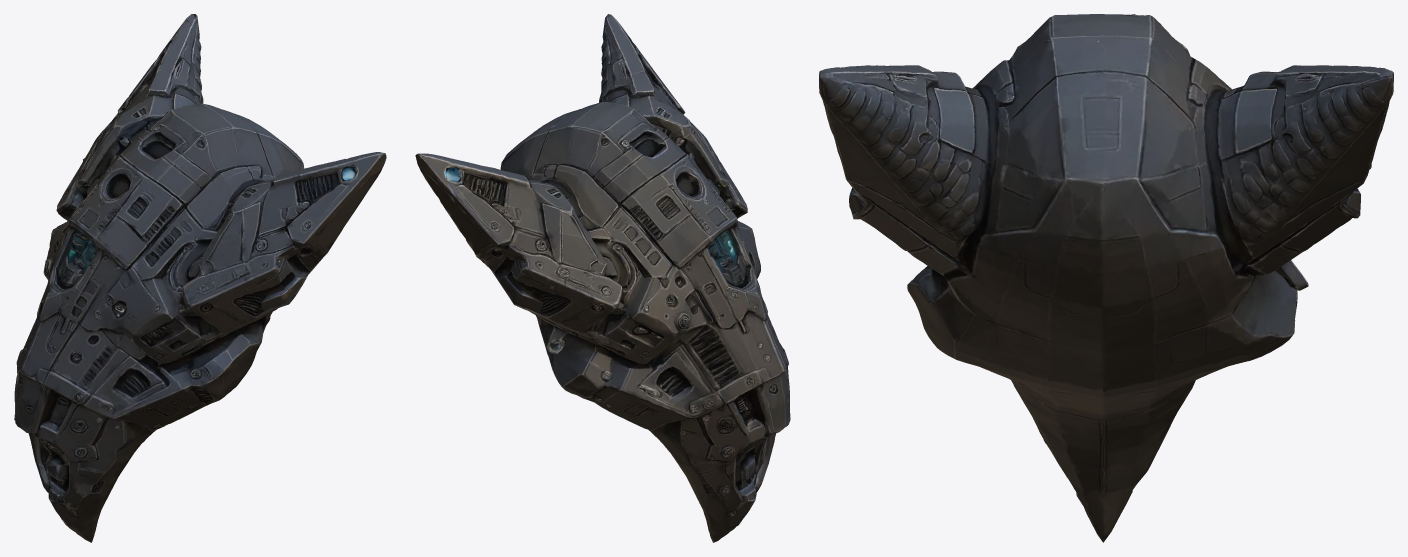
The model's file is enemy_scout.glb.
3 renders of one model, left to right at view 1: azimuth 30°, elevation 25°; view 2: azimuth 150°, elevation 25°; view 3: azimuth 270°, elevation 25°, orthographic. The views are drawn at different scales.
Visible parts, largest first — view 1: tripo_node_39dfb784-5f11-41c4-ae74-b706324c3f0c; view 2: tripo_node_39dfb784-5f11-41c4-ae74-b706324c3f0c; view 3: tripo_node_39dfb784-5f11-41c4-ae74-b706324c3f0c.
Part boxes in pixels (x1=…): tripo_node_39dfb784-5f11-41c4-ae74-b706324c3f0c: x1=14, y1=14, x2=386, y2=542; tripo_node_39dfb784-5f11-41c4-ae74-b706324c3f0c: x1=415, y1=14, x2=790, y2=542; tripo_node_39dfb784-5f11-41c4-ae74-b706324c3f0c: x1=819, y1=14, x2=1393, y2=542.
Size of the model in its own units: 0.714 by 0.9991 by 0.8458.
Materials: 1 (1 with a texture image).
